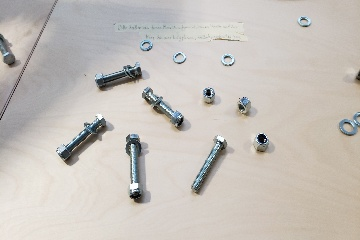Bolt: (185, 133, 228, 196)
FalseAssembly: (54, 110, 107, 166), (122, 131, 148, 203)
FinishedAssembly: (138, 87, 190, 133), (91, 62, 142, 90)
Nut: (235, 95, 256, 117), (251, 131, 272, 152), (201, 86, 219, 106)
Washer: (338, 118, 359, 138), (139, 38, 154, 54), (219, 52, 235, 67), (171, 52, 189, 65), (297, 14, 311, 28)
